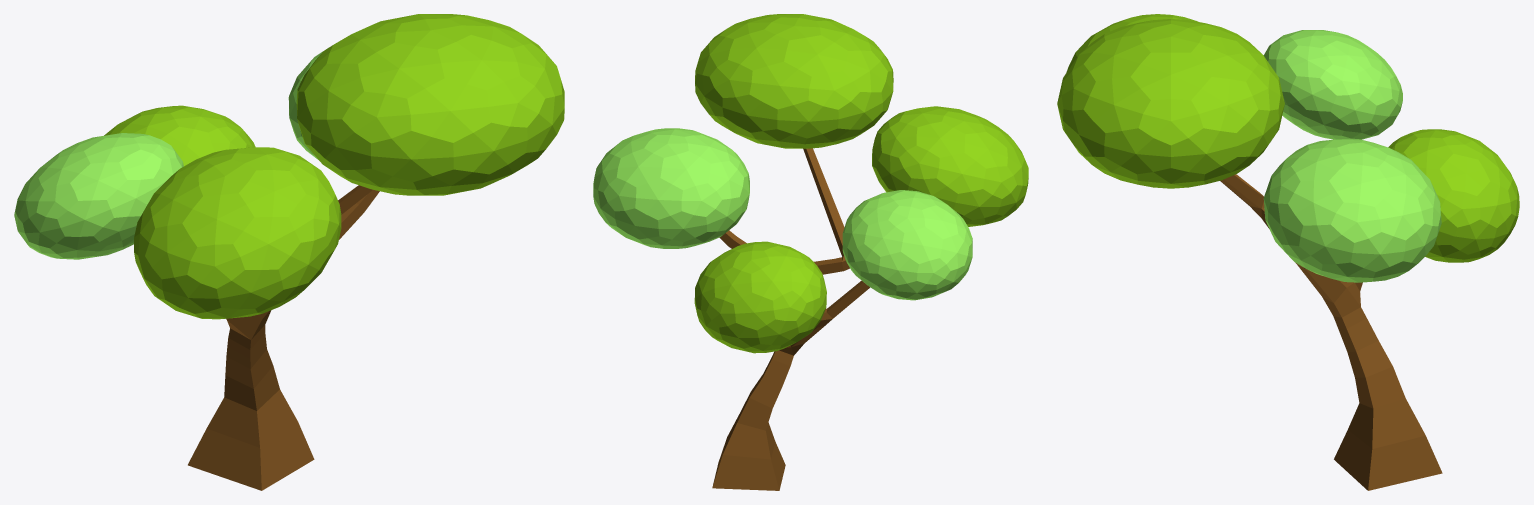
Rendered from Tree_lowpoly.fbx.
The picture shows the model from 3 angles, left to right: view 1: azimuth 30°, elevation 25°; view 2: azimuth 150°, elevation 25°; view 3: azimuth 270°, elevation 25°; orthographic projection. The views are drawn at different scales.
Parts seen in each view (by area): view 1: Icosphere.002, Icosphere.004, Icosphere.001, Cube, Icosphere, Icosphere.003; view 2: Icosphere.002, Icosphere.003, Icosphere.004, Icosphere, Icosphere.001, Cube; view 3: Icosphere.002, Icosphere.003, Cube, Icosphere.001, Icosphere, Icosphere.004.
Boxes of the visible parts, bbox=[...] form: Icosphere.002: bbox=[296, 14, 564, 195]; Icosphere.004: bbox=[134, 147, 341, 319]; Icosphere.001: bbox=[14, 133, 183, 259]; Cube: bbox=[188, 185, 379, 490]; Icosphere: bbox=[104, 105, 255, 166]; Icosphere.003: bbox=[288, 51, 323, 159]; Icosphere.002: bbox=[695, 14, 893, 148]; Icosphere.003: bbox=[593, 128, 749, 248]; Icosphere.004: bbox=[872, 106, 1028, 226]; Icosphere: bbox=[694, 241, 826, 353]; Icosphere.001: bbox=[842, 190, 972, 300]; Cube: bbox=[712, 148, 869, 490]; Icosphere.002: bbox=[1057, 19, 1284, 188]; Icosphere.003: bbox=[1263, 139, 1441, 282]; Cube: bbox=[1220, 174, 1442, 490]; Icosphere.001: bbox=[1263, 30, 1402, 139]; Icosphere: bbox=[1388, 129, 1519, 262]; Icosphere.004: bbox=[1066, 14, 1198, 72].
Size of the model in its own units: 1142 by 1060 by 1156.
